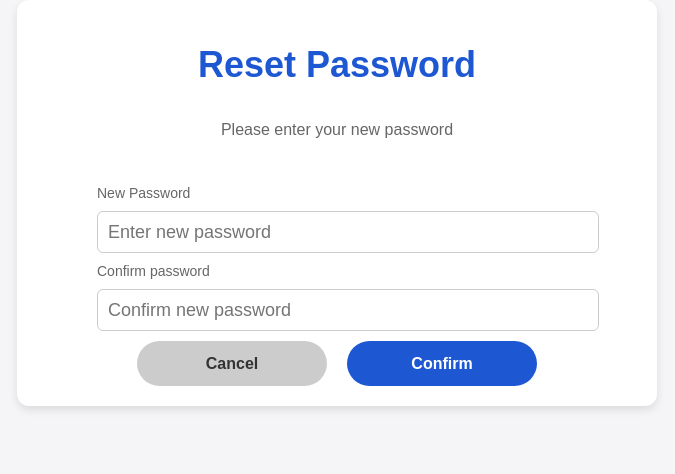
Test: shows an error when passwords do not match
Type "Validpass1!" into the password field labelled "New Password" at {"x": 348, "y": 232}, box [97,211,599,253]
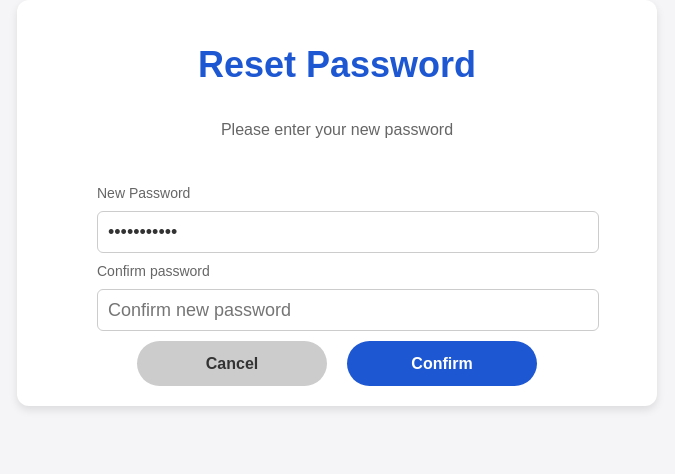
Type "Different1!" into the password field labelled "Confirm password" at {"x": 348, "y": 310}, box [97,289,599,331]
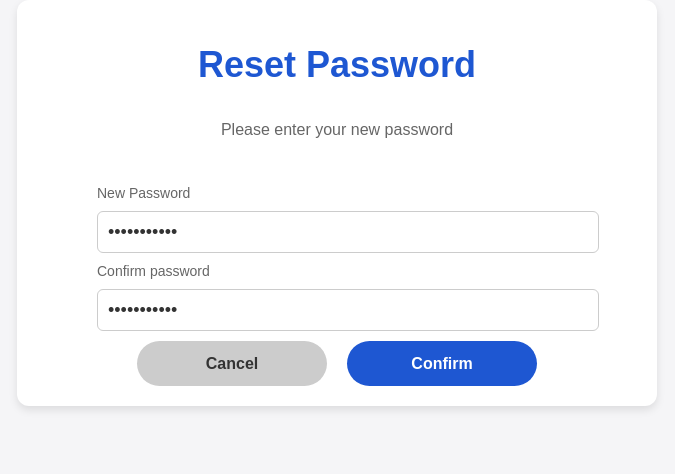
Click the button "Confirm" at {"x": 442, "y": 364}, box [347,341,537,386]
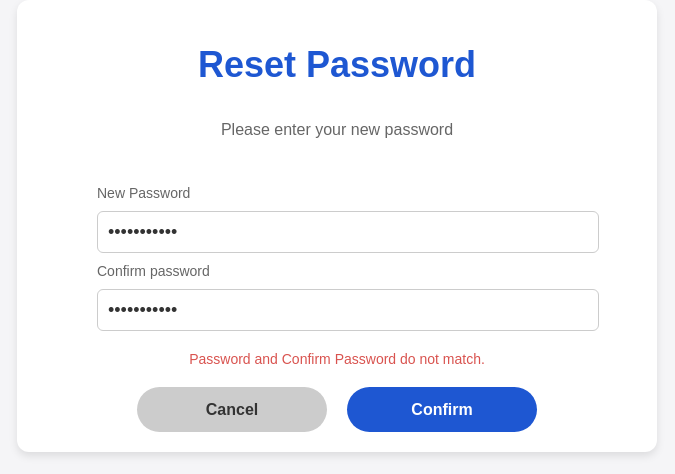
expect the text "Password and Confirm Password do not match." is shown: met, box [189,351,485,367]
